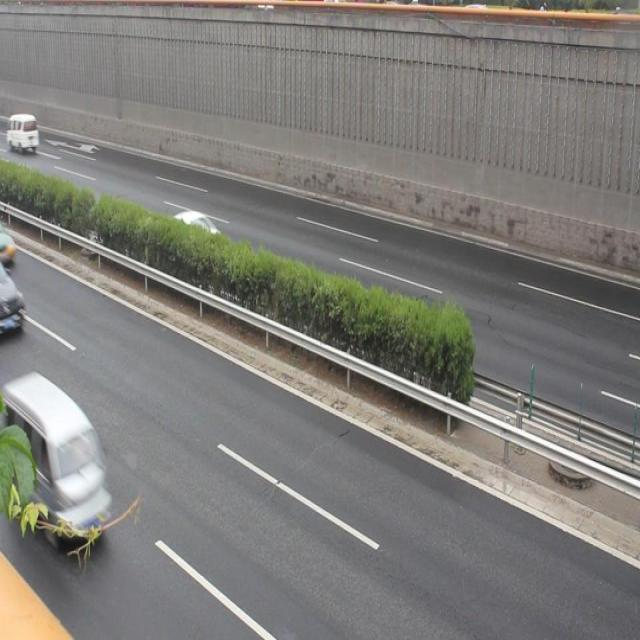car: (155, 210, 222, 266), (1, 266, 24, 340), (1, 225, 15, 266)
truck: (1, 373, 108, 537)
